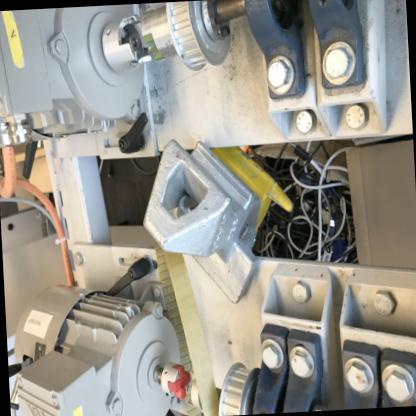Twistlock: (136, 131, 300, 310)
